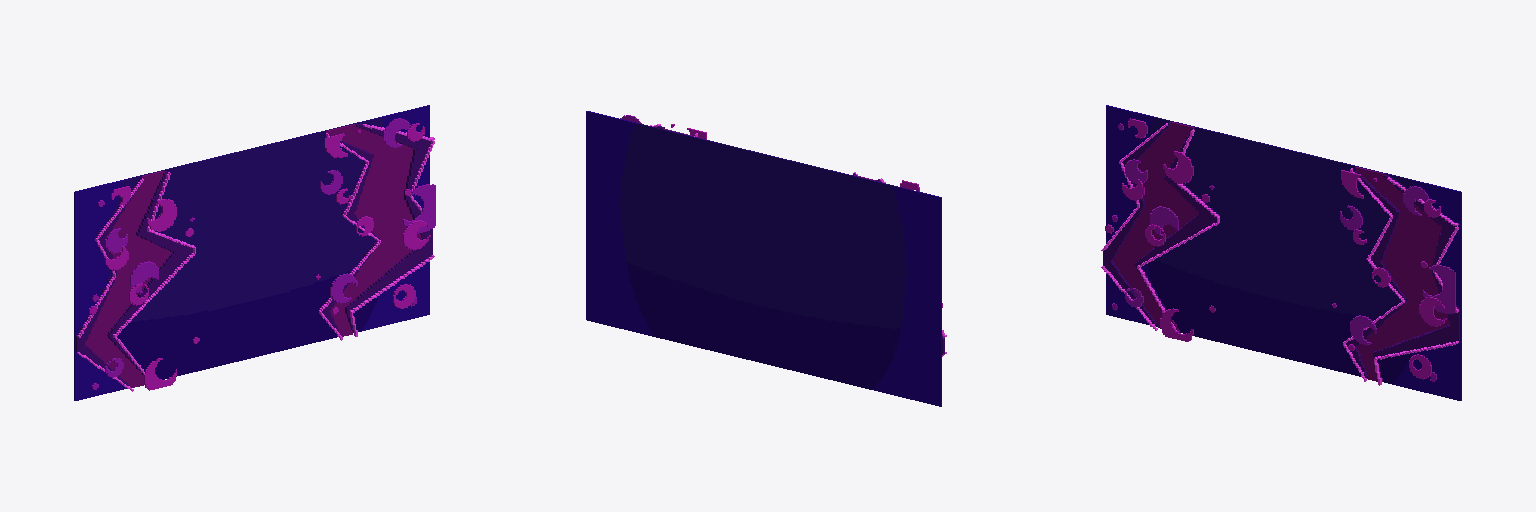
The picture shows the model from 3 angles: view 1: azimuth 30°, elevation 25°; view 2: azimuth 150°, elevation 25°; view 3: azimuth 330°, elevation 25°; orthographic projection.
Visible parts, largest first — view 1: object 1; view 2: object 1; view 3: object 1.
Boxes of the visible parts, x1,y1,x2,y2 form: object 1: [74, 105, 435, 400]; object 1: [586, 111, 946, 406]; object 1: [1101, 105, 1461, 400].
Size of the model in its own units: 24 by 13.5 by 1.
1 materials, 1 textured.